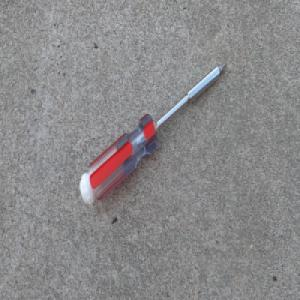Screwdriver: (77, 61, 229, 209)
